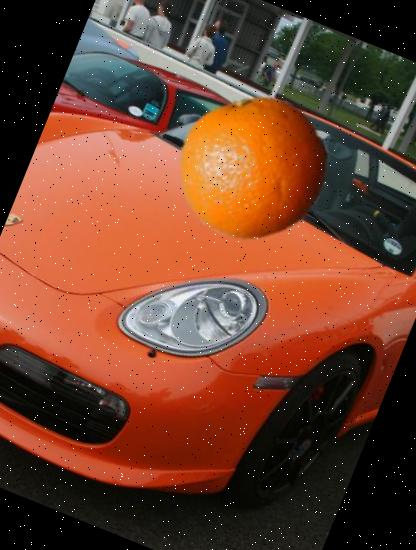Orange: (156, 71, 350, 264)
